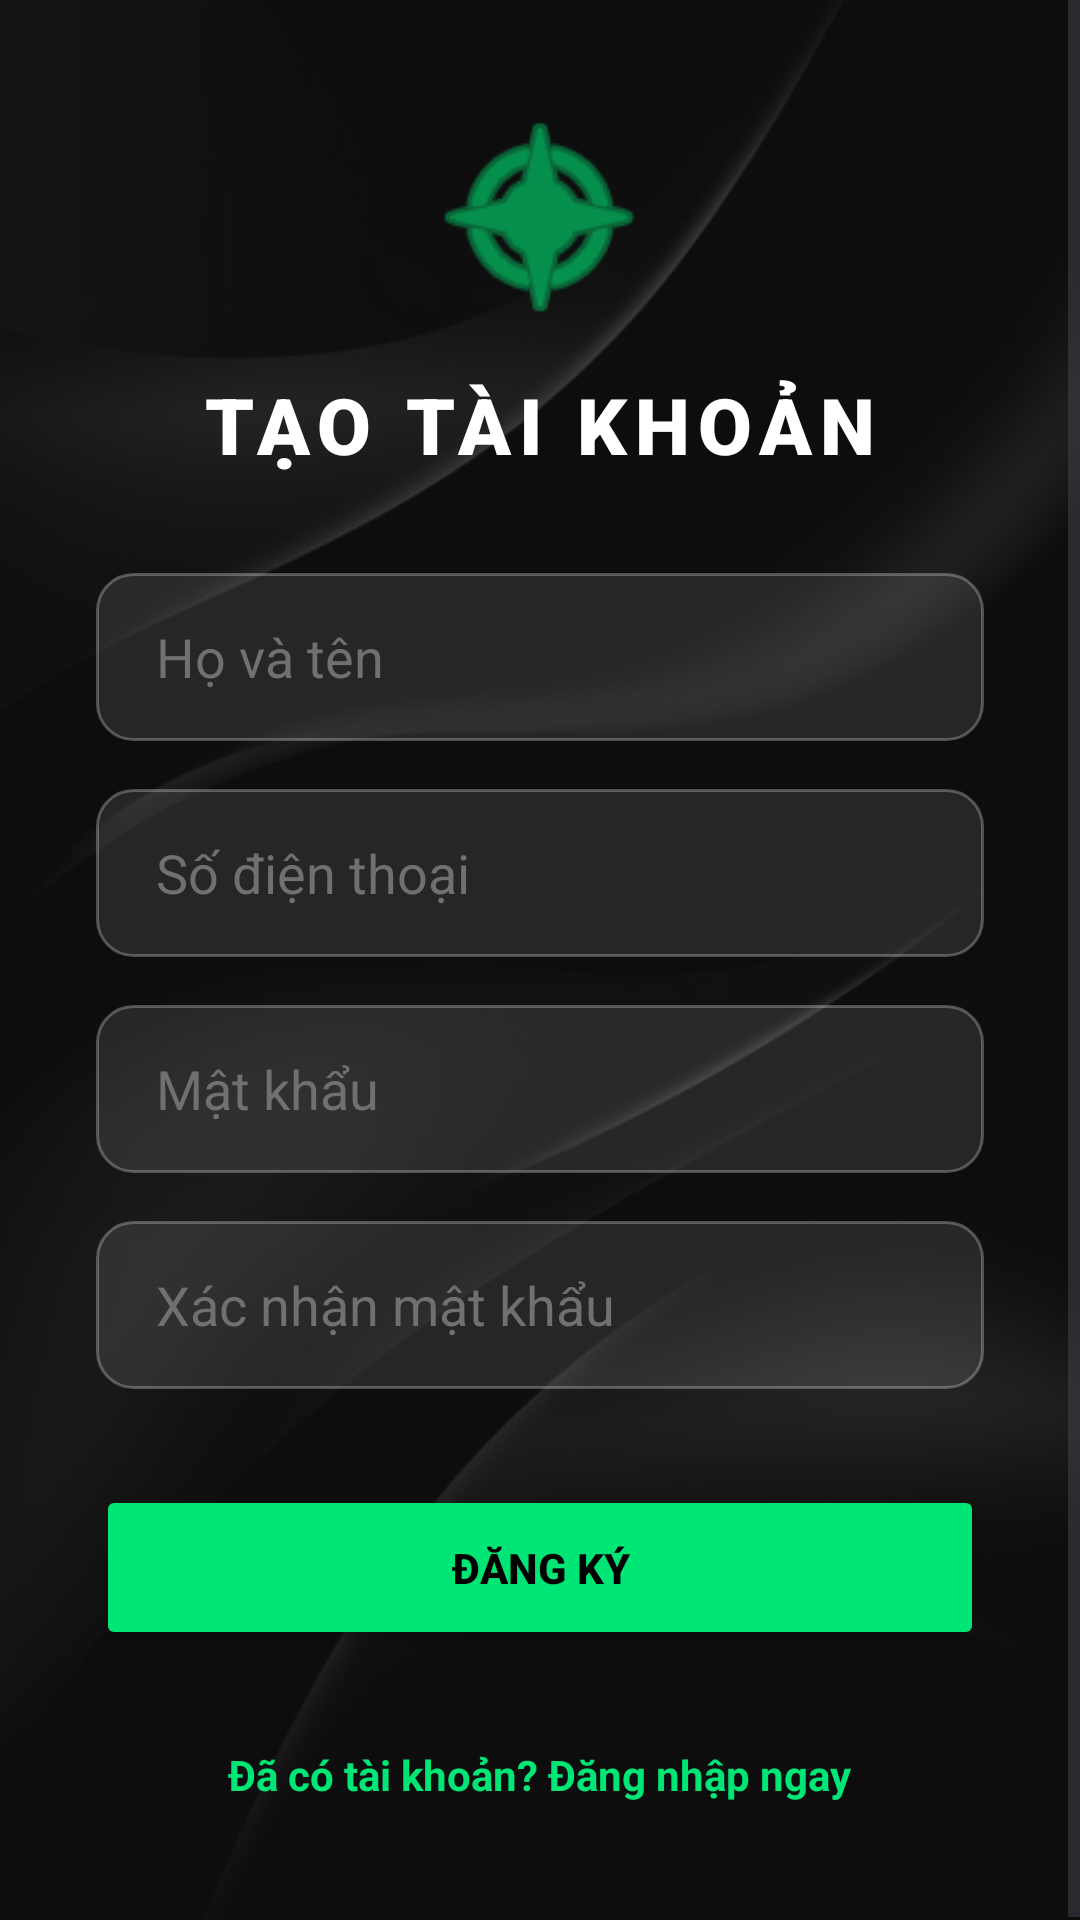

Point at icon controls on the screen. Image size 1080 x 1920, points as (x=x, y=y).
compass: (x=539, y=217)
